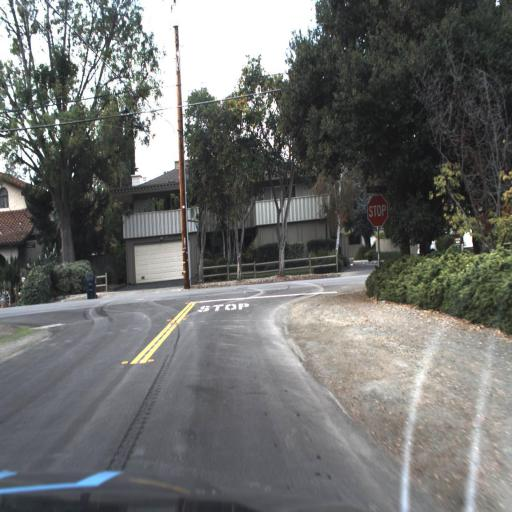car: (416, 234, 437, 258)
